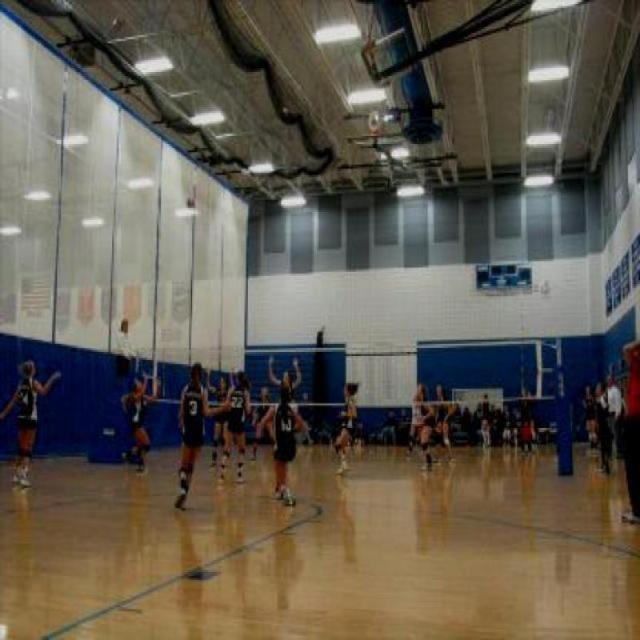volleyball: (186, 193, 197, 208)
